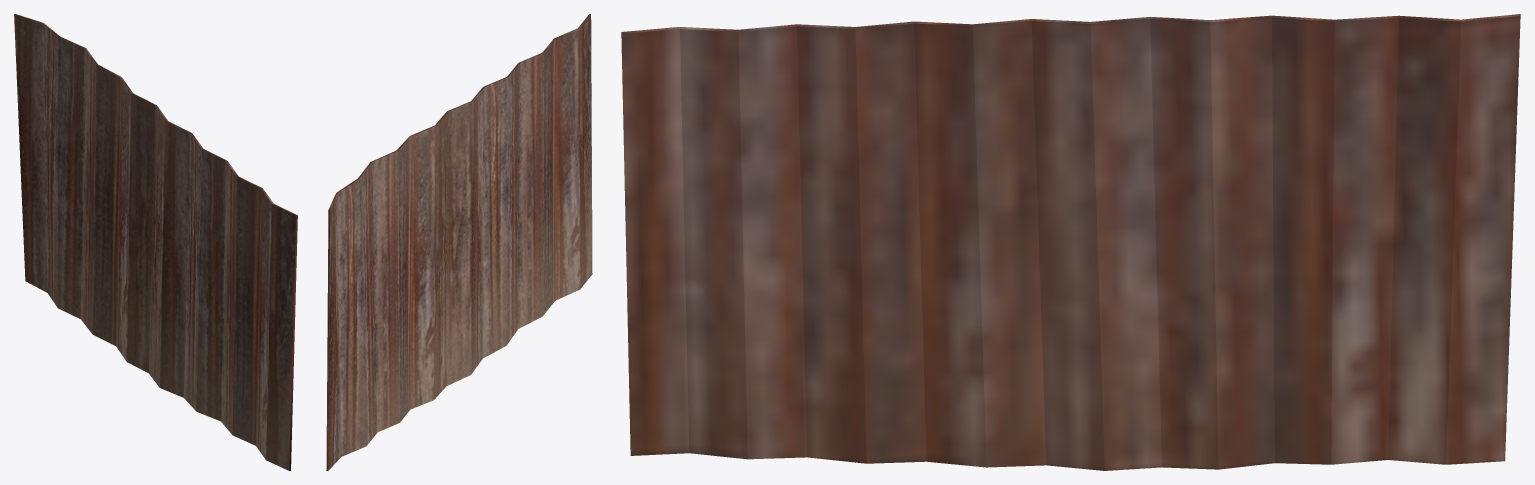
3 renders of one model, left to right at view 1: azimuth 30°, elevation 25°; view 2: azimuth 150°, elevation 25°; view 3: azimuth 270°, elevation 25°, orthographic. The views are drawn at different scales.
Parts seen in each view (by area): view 1: Object_62; view 2: Object_62; view 3: Object_62.
Part boxes in pixels (x1,y1,x2,y2): Object_62: [14, 14, 297, 470]; Object_62: [326, 14, 592, 470]; Object_62: [621, 14, 1520, 470].
Bounding box in the file's own units: 0.0573 × 0.9433 × 1.69.
1 material, 1 textured.
